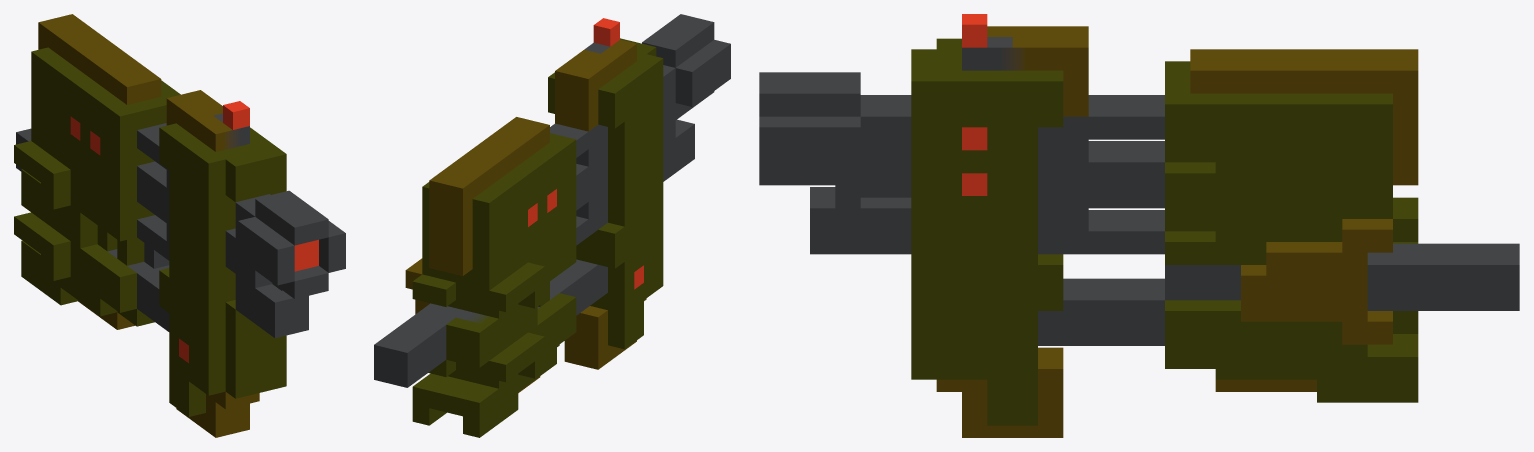
The model's file is Other1.fbx.
The picture shows the model from 3 angles, left to right: view 1: azimuth 30°, elevation 25°; view 2: azimuth 150°, elevation 25°; view 3: azimuth 270°, elevation 25°; orthographic projection. The views are drawn at different scales.
Parts seen in each view (by area): view 1: Other1; view 2: Other1; view 3: Other1.
Boxes of the visible parts, bbox=[...] form: Other1: bbox=[14, 14, 345, 437]; Other1: bbox=[374, 14, 730, 437]; Other1: bbox=[759, 14, 1519, 437].
Bounding box in the file's own units: 30 × 90 × 150.
